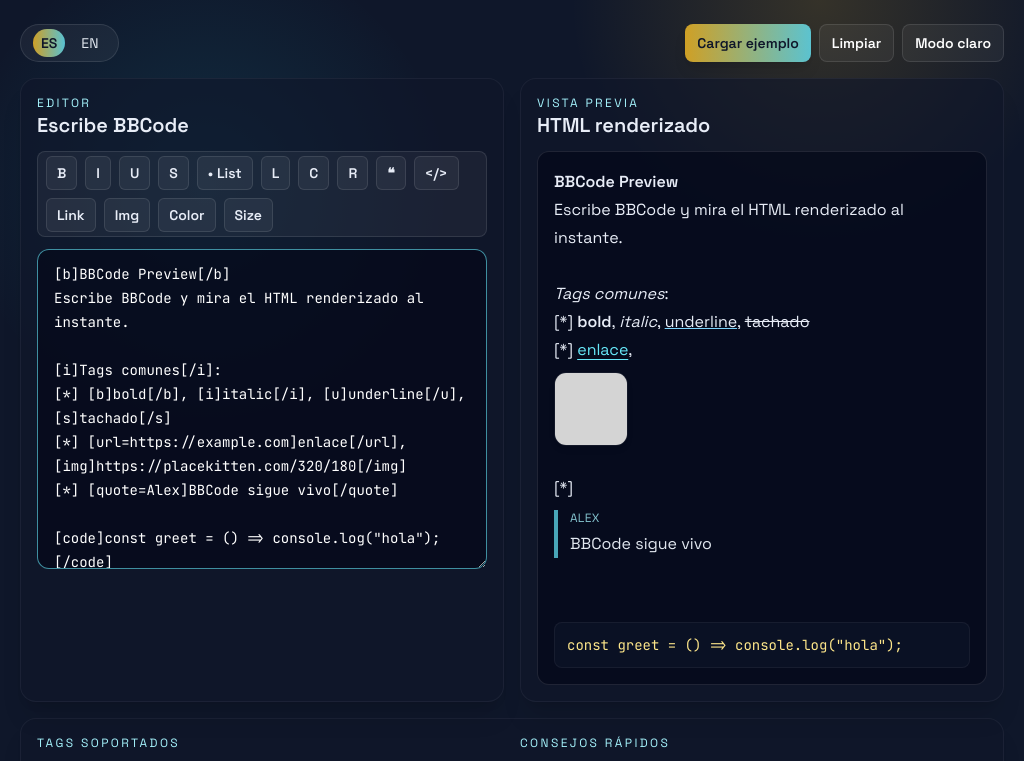
App › switches language to EN
Click the button "EN": coordinates (90, 43) [73,29,106,57]
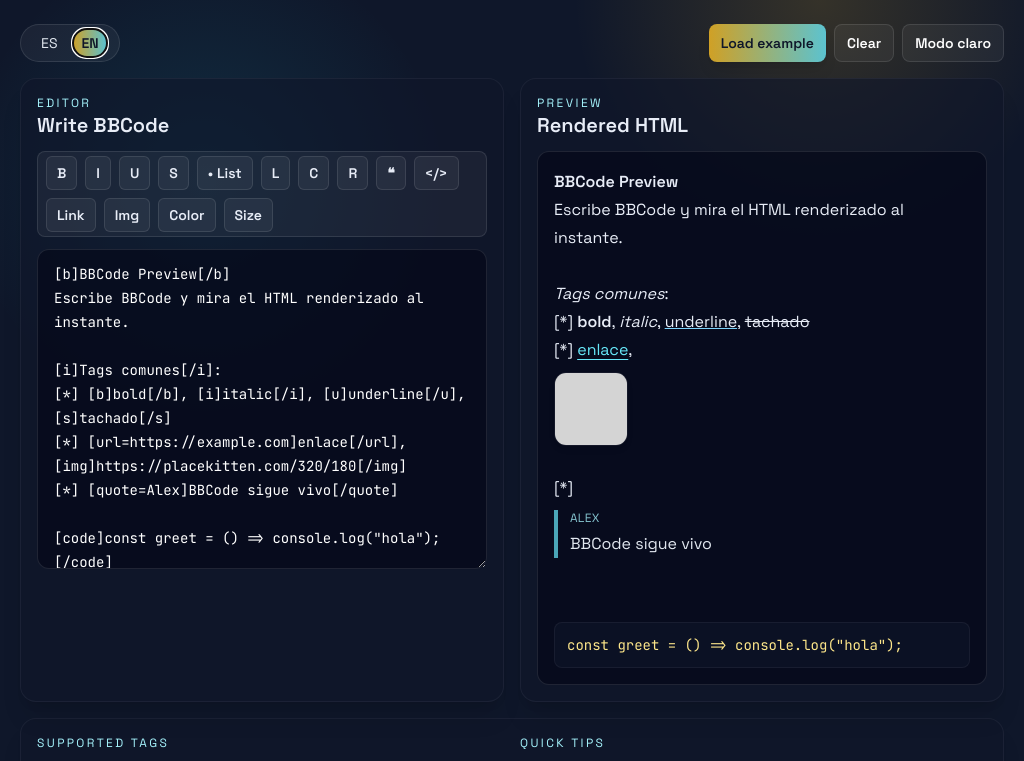
Check: the heading "Write BBCode" is shown, box [37,111,169,139]
